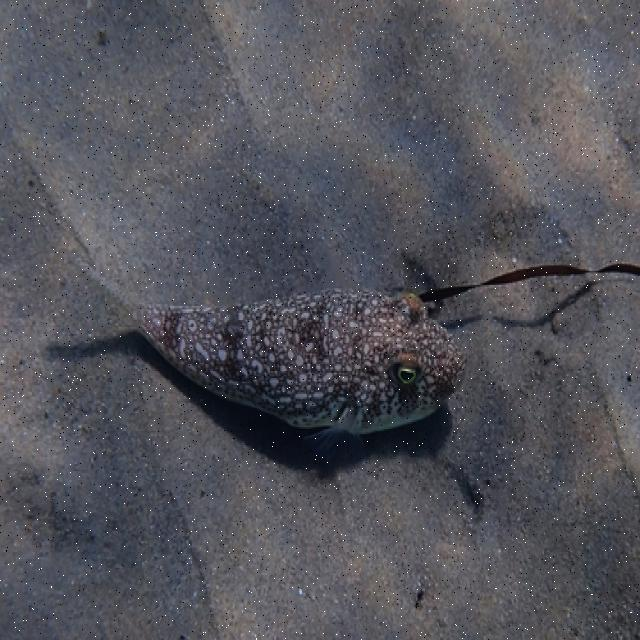Balik: (136, 291, 464, 444)
